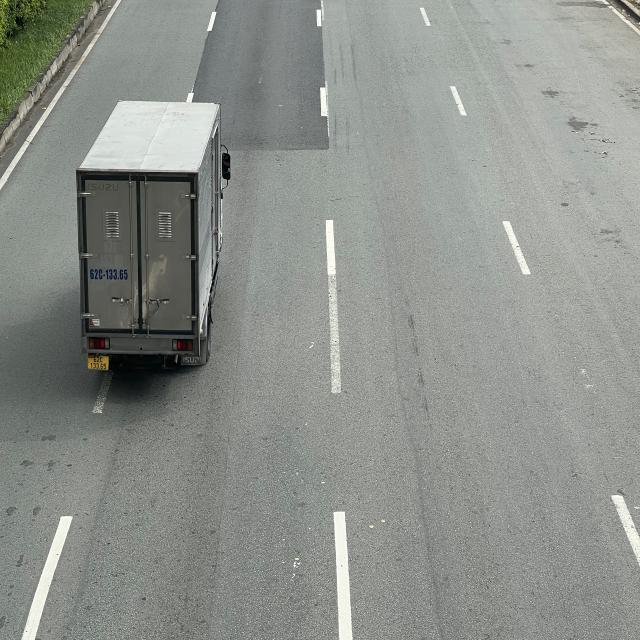truck: (76, 100, 232, 373)
